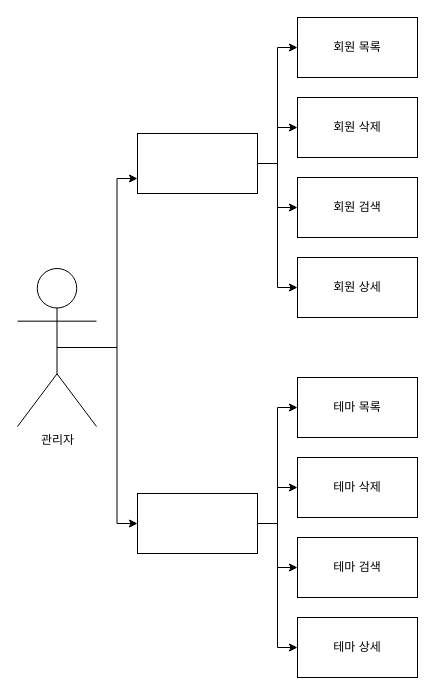
Image size: 435x695. Some labels were removed from this diagram. Here are the shapes that lost their labels. From the top down, the centre of each, then its label:
At point (197, 163): "회원 관리".
At point (197, 523): "테마 관리".
